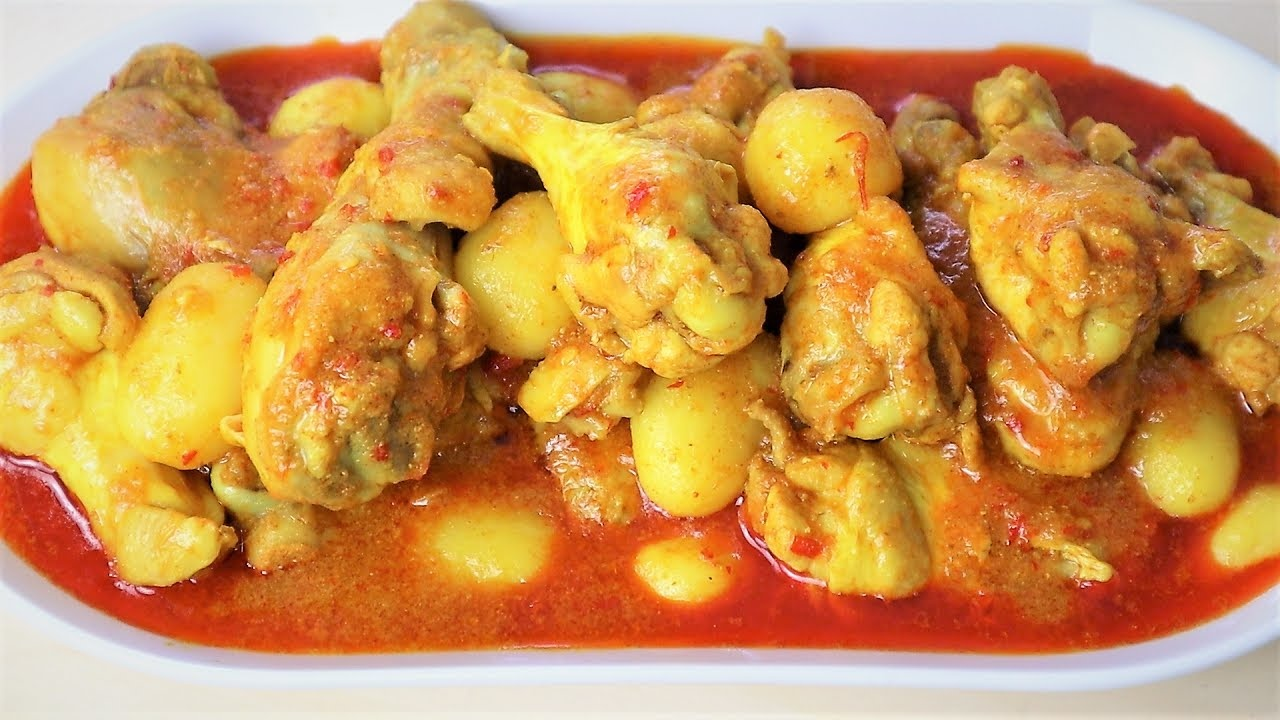gulai_ayam: (8, 29, 1272, 641)
